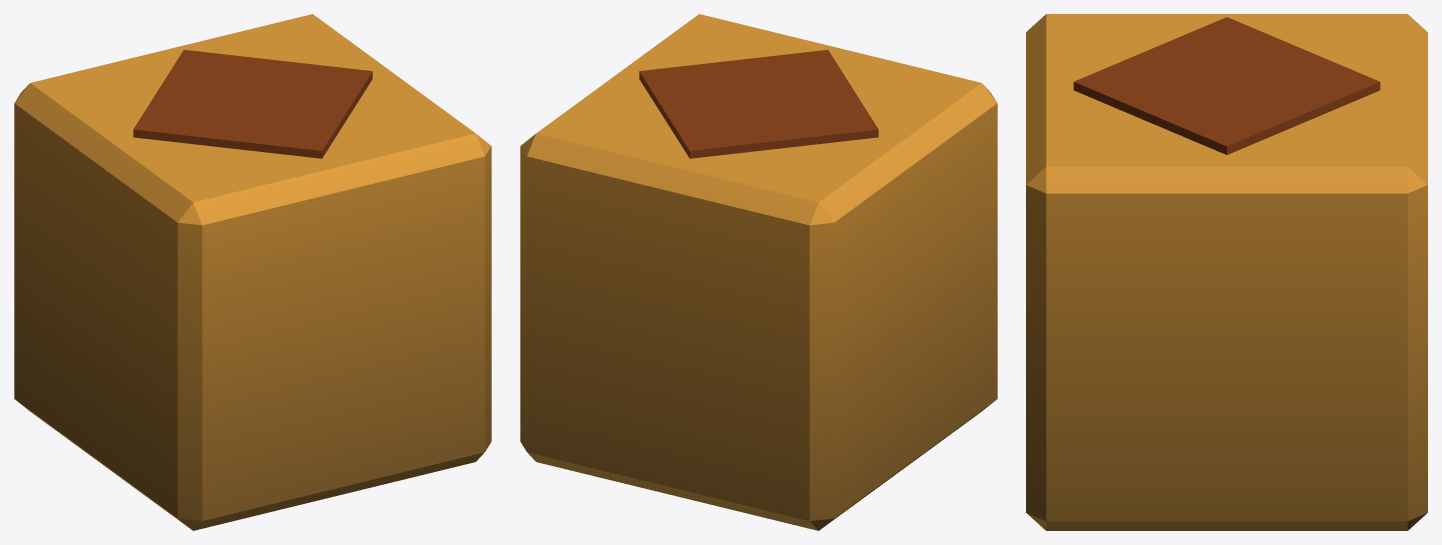
File: Tile_EmasPlate.fbx
3 views of the same model, side by side, from view 1: azimuth 30°, elevation 25°; view 2: azimuth 150°, elevation 25°; view 3: azimuth 270°, elevation 25° (orthographic). The views are drawn at different scales.
Parts seen in each view (by area): view 1: Tile Emas Plate; view 2: Tile Emas Plate; view 3: Tile Emas Plate.
Part boxes in pixels (<box>): Tile Emas Plate: <box>14,14,491,530</box>; Tile Emas Plate: <box>520,14,997,530</box>; Tile Emas Plate: <box>1026,14,1427,530</box>.
Bounding box in the file's own units: 1 × 1.02 × 1.
Materials: 1 (1 with a texture image).
